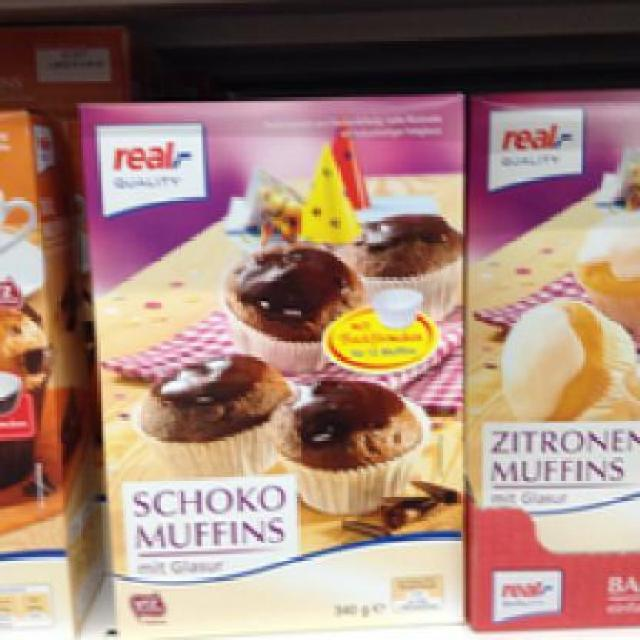Cake: (71, 89, 468, 626), (457, 77, 637, 620)
